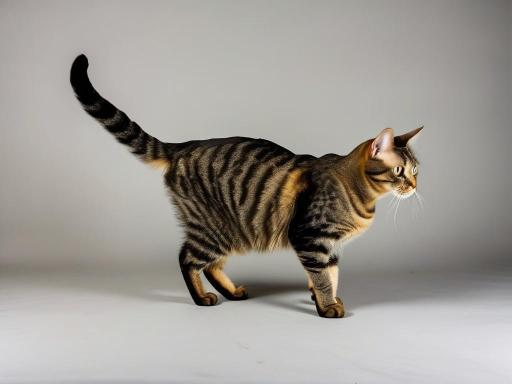cat_standing: (70, 55, 422, 318)
